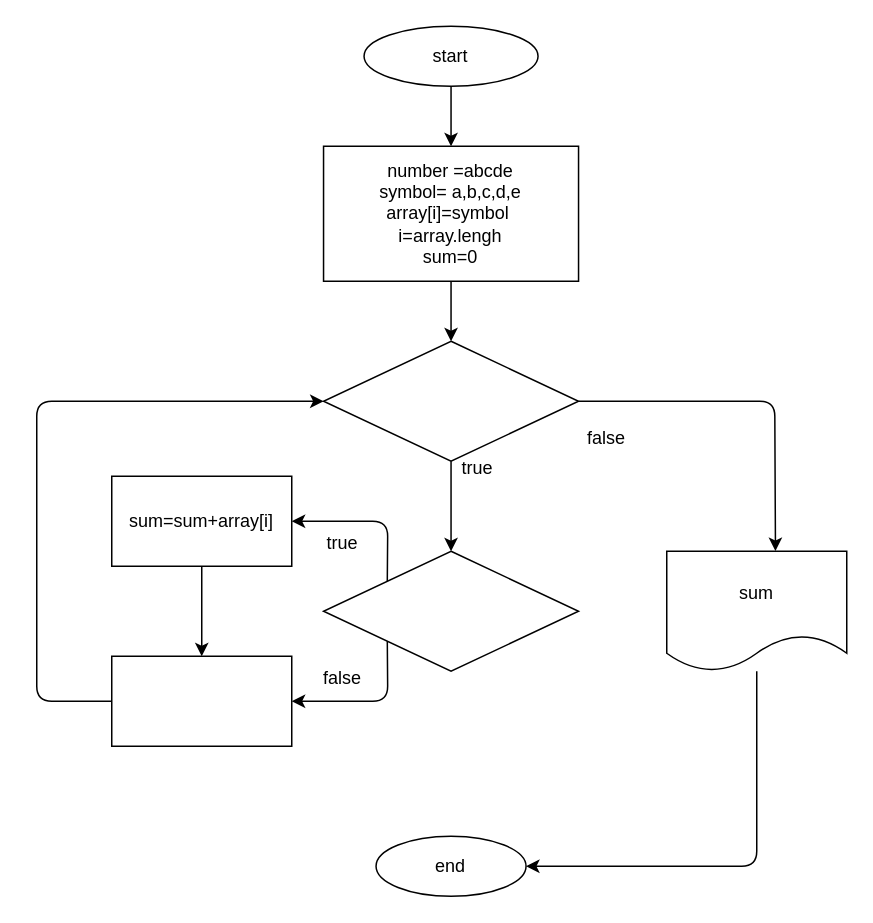
Image size: 873x923. Some labels were removed from this diagram. The box of each missing label's shape, as (x1, y1, x2, y2) in pixels:
arrai [i] =digit: (322, 550, 579, 671)
i от 0 до array.lenght -1: (322, 340, 579, 461)
i++: (110, 655, 292, 746)
